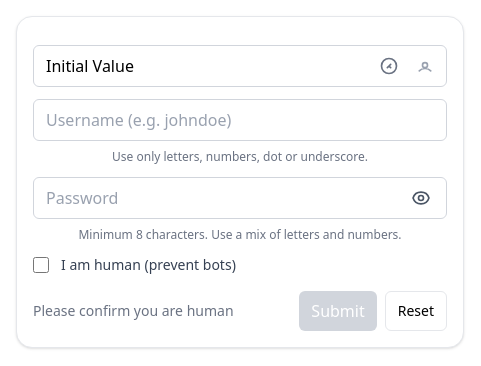
it: InputField (Form Component) › clears the fullname input when clear button is clicked
Expected: the field with placeholder "Full name" holds "Initial Value", [33,45,447,87]
Click the button named "Clear full name": (389, 66) [375,52,403,80]
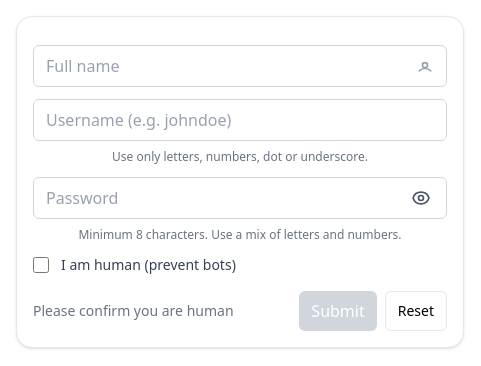
Now the field with placeholder "Full name" is empty, box [33,45,447,87]
